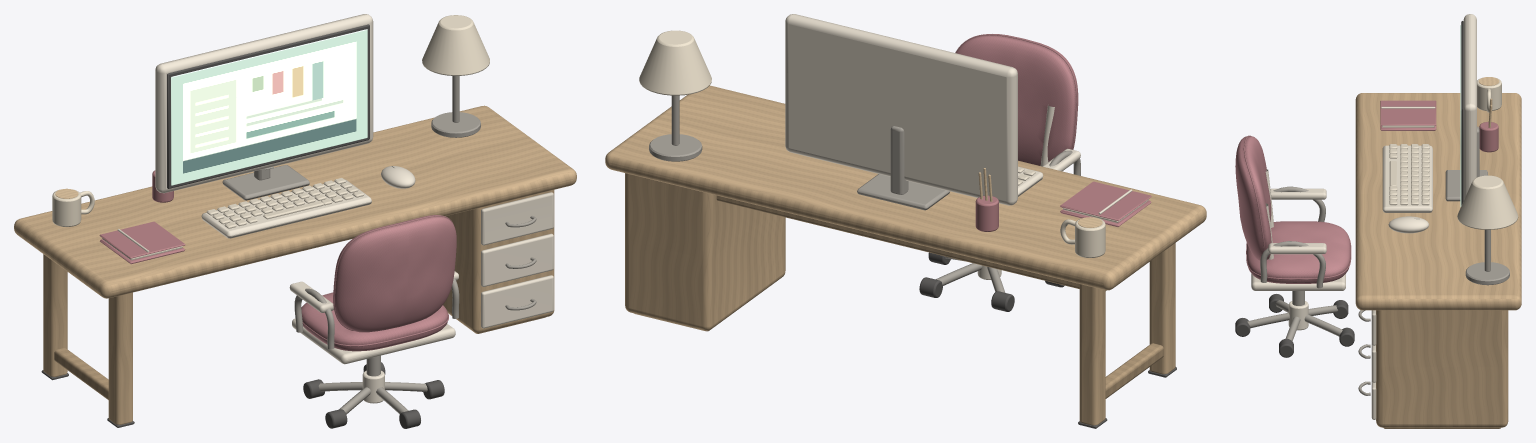
The model's file is office-workspace.glb.
3 renders of one model, left to right at view 1: azimuth 30°, elevation 25°; view 2: azimuth 150°, elevation 25°; view 3: azimuth 270°, elevation 25°, orthographic. The views are drawn at different scales.
Visible parts, largest first — view 1: office_Refined_oak, office_Local_screen, office_Warm_cream_enamel, office_Refined_rose, office_Satin_warm_aluminium, office_Ivory_ceramic, office_Soft_graphite_rubber, office_Warm_paper, office_Dusty_rose_notebook, office_Upholstery_stitched_welt; view 2: office_Refined_oak, office_Warm_cream_enamel, office_Refined_rose, office_Satin_warm_aluminium, office_Ivory_ceramic, office_Dusty_rose_notebook, office_Soft_graphite_rubber; view 3: office_Refined_oak, office_Warm_cream_enamel, office_Refined_rose, office_Satin_warm_aluminium, office_Ivory_ceramic, office_Dusty_rose_notebook, office_Warm_paper, office_Soft_graphite_rubber, office_Upholstery_stitched_welt, office_Local_screen.
Part boxes in pixels (<box>): office_Refined_oak: <box>14,105,576,424</box>; office_Local_screen: <box>171,29,367,185</box>; office_Warm_cream_enamel: <box>117,14,553,403</box>; office_Refined_rose: <box>301,215,456,351</box>; office_Satin_warm_aluminium: <box>222,76,536,414</box>; office_Ivory_ceramic: <box>52,15,489,226</box>; office_Soft_graphite_rubber: <box>41,24,444,428</box>; office_Warm_paper: <box>102,178,364,260</box>; office_Dusty_rose_notebook: <box>99,170,185,264</box>; office_Upholstery_stitched_welt: <box>302,215,453,346</box>; office_Refined_oak: <box>605,85,1206,425</box>; office_Warm_cream_enamel: <box>785,14,1132,279</box>; office_Refined_rose: <box>956,34,1078,165</box>; office_Satin_warm_aluminium: <box>649,95,1080,292</box>; office_Ivory_ceramic: <box>639,30,1105,257</box>; office_Dusty_rose_notebook: <box>975,181,1151,231</box>; office_Soft_graphite_rubber: <box>919,252,1176,428</box>; office_Refined_oak: <box>1355,93,1521,428</box>; office_Warm_cream_enamel: <box>1251,14,1476,419</box>; office_Refined_rose: <box>1235,136,1350,283</box>; office_Satin_warm_aluminium: <box>1247,126,1509,395</box>; office_Ivory_ceramic: <box>1457,78,1518,229</box>; office_Dusty_rose_notebook: <box>1380,100,1498,152</box>; office_Warm_paper: <box>1382,125,1434,205</box>; office_Soft_graphite_rubber: <box>1235,21,1463,357</box>; office_Upholstery_stitched_welt: <box>1243,135,1351,279</box>; office_Local_screen: <box>1460,25,1461,206</box>.
Bounding box in the file's own units: 4.2 × 2.53 × 2.45.
12 materials, 4 textured.
